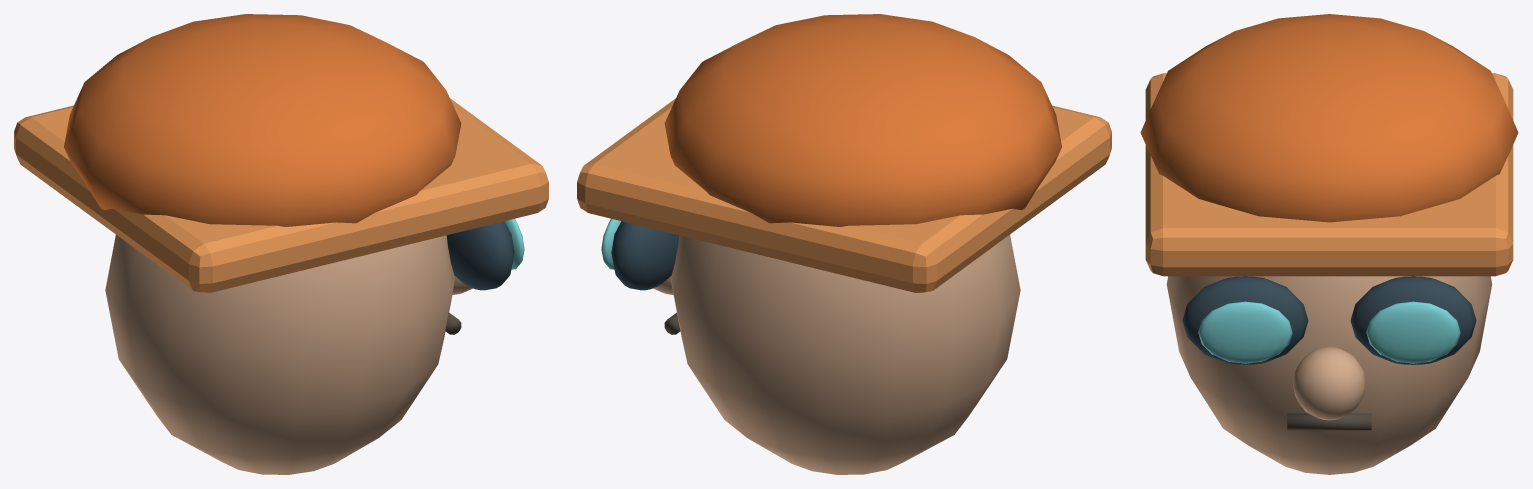
Rendered from character-head-b.glb.
3 views of the same model, side by side, from view 1: azimuth 30°, elevation 25°; view 2: azimuth 150°, elevation 25°; view 3: azimuth 270°, elevation 25° (orthographic). The views are drawn at different scales.
Visible parts, largest first — view 1: tyaga-head-b-surface; view 2: tyaga-head-b-surface; view 3: tyaga-head-b-surface.
Boxes of the visible parts, x1,y1,x2,y2 form: tyaga-head-b-surface: (14,14,548,474); tyaga-head-b-surface: (577,14,1111,474); tyaga-head-b-surface: (1140,14,1518,474).
Size of the model in its own units: 0.421 by 0.425 by 0.36.
